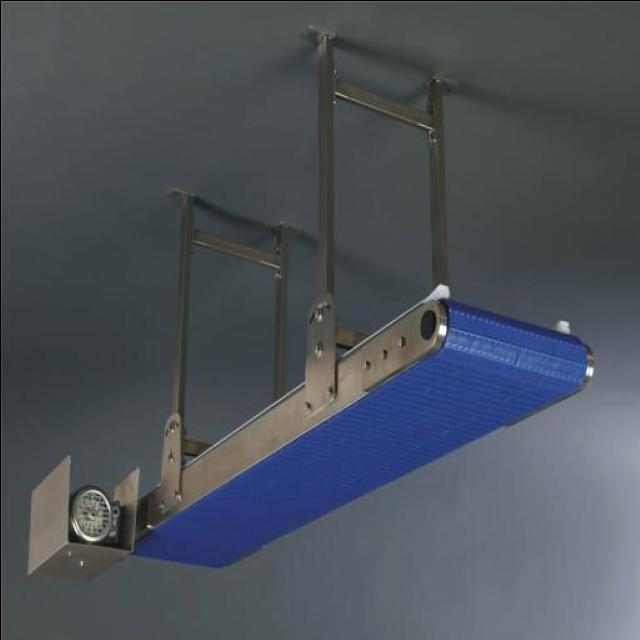conveyor: (128, 301, 591, 569)
